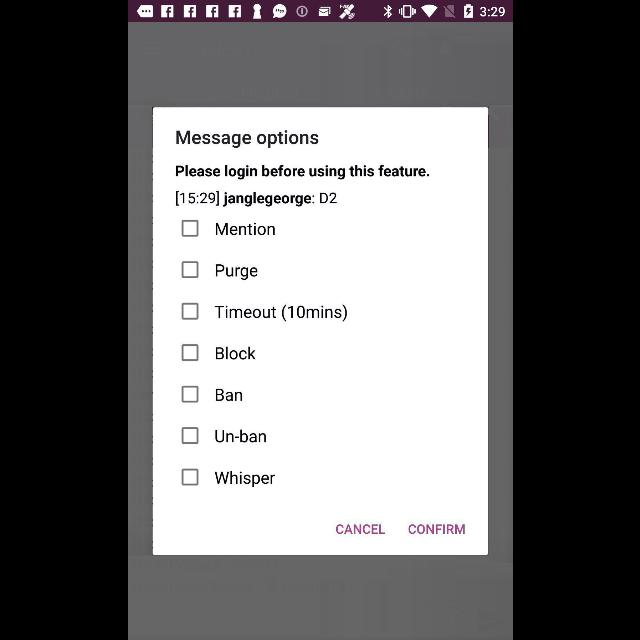checkbox: (180, 260, 198, 278), (180, 302, 198, 320), (180, 220, 198, 237), (181, 385, 197, 403), (181, 468, 197, 486), (181, 344, 197, 361), (181, 427, 197, 443)
panel: (152, 107, 488, 555)
text: (175, 164, 429, 180), (175, 191, 337, 207), (176, 130, 318, 148), (214, 304, 346, 322), (213, 470, 274, 488), (216, 222, 274, 235), (215, 264, 257, 280), (214, 430, 266, 442), (408, 524, 464, 534), (215, 346, 255, 359), (336, 524, 384, 534), (214, 388, 242, 402)
uppertaskbar: (128, 1, 512, 23)
